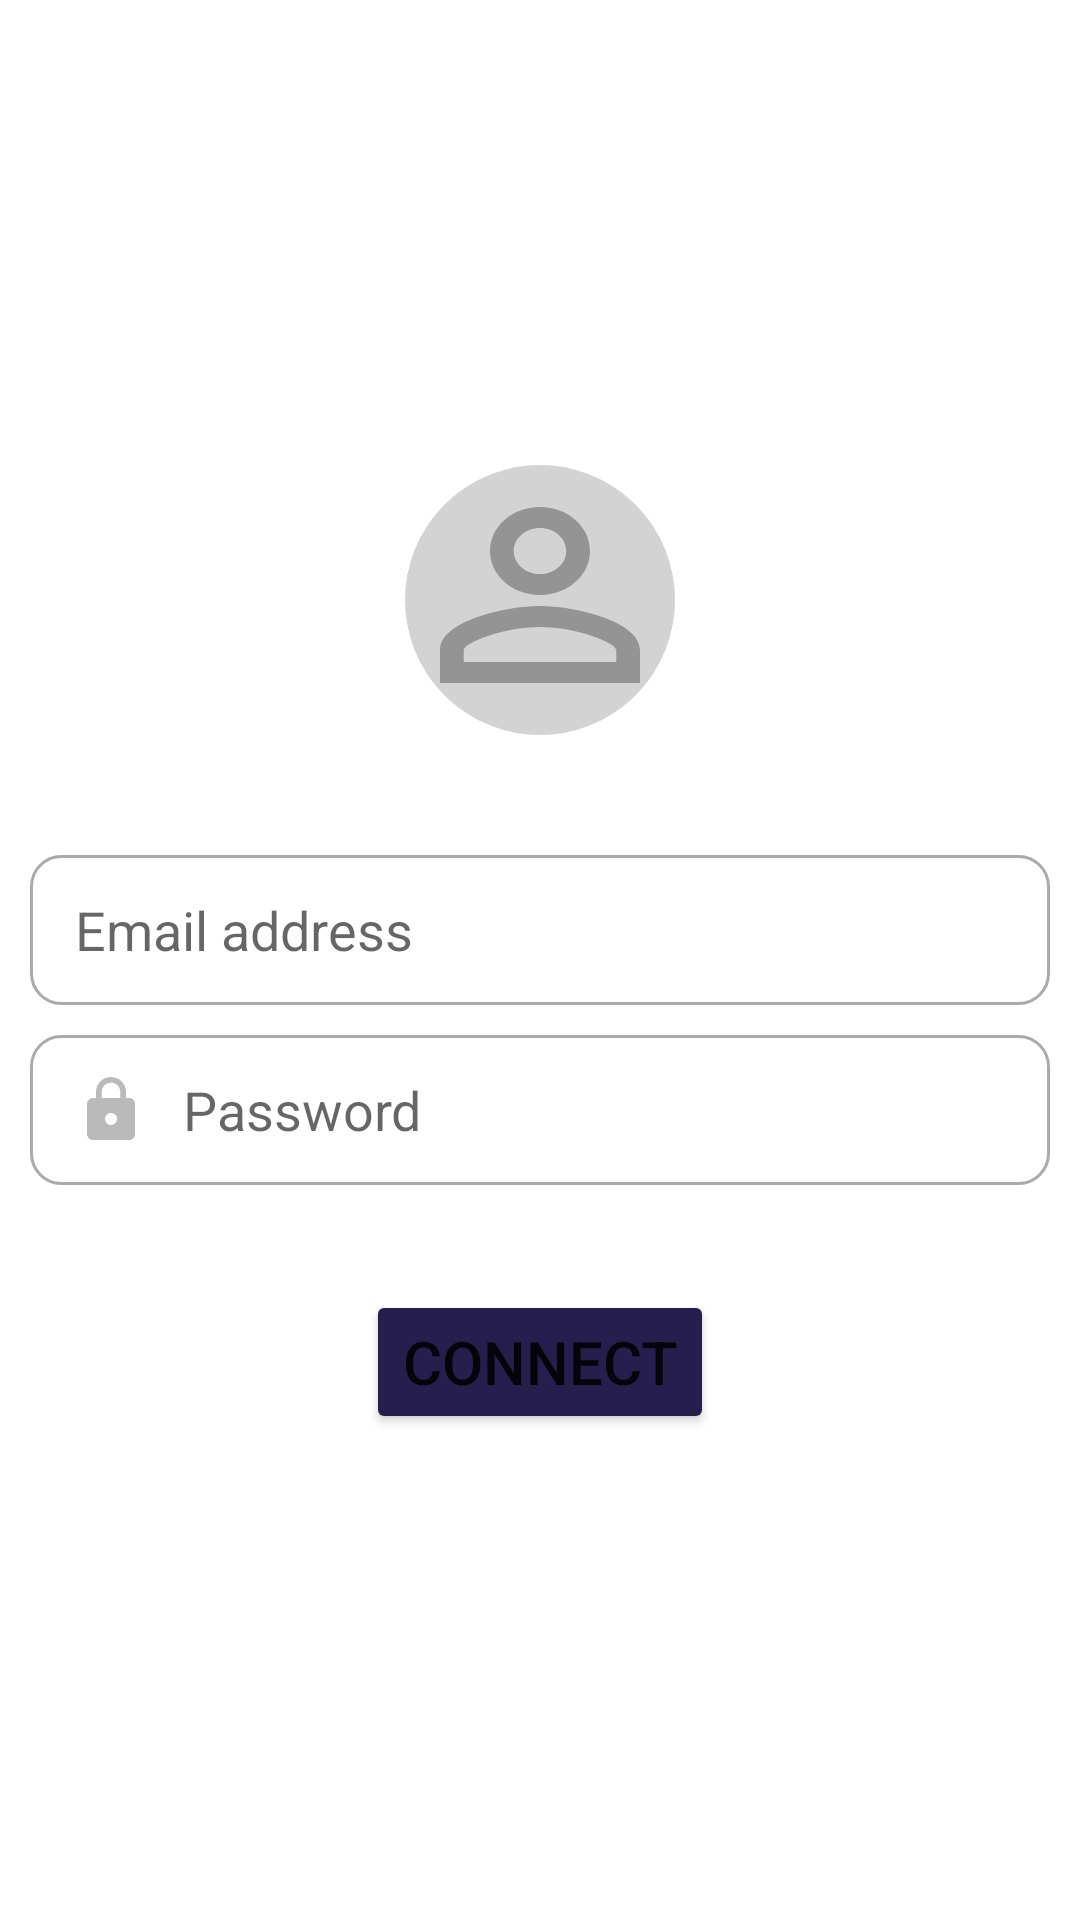

Named icons in this screenshot (1080px x 1920px) and their bounding boxes, {"x1": x1, "y1": y1, "x2": x2, "y2": y2}:
user: {"x1": 405, "y1": 465, "x2": 675, "y2": 735}
